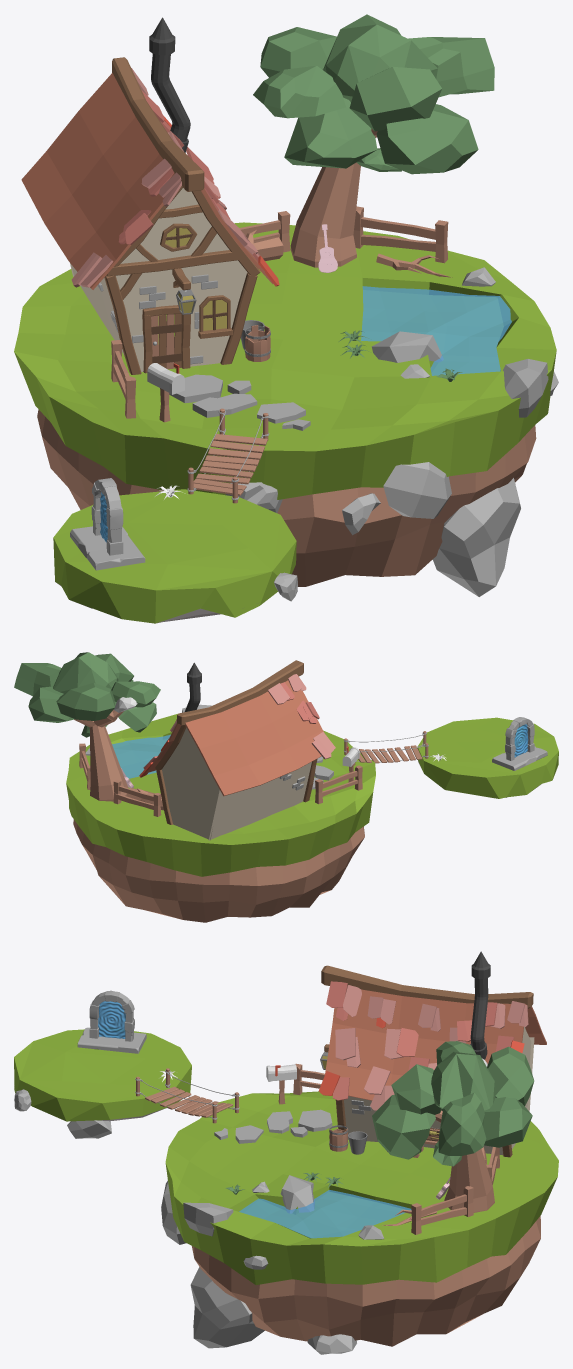
Rendered from worldIndex-S1yBjDze.glb.
The picture shows the model from 3 angles, top to bottom: view 1: azimuth 30°, elevation 25°; view 2: azimuth 150°, elevation 25°; view 3: azimuth 270°, elevation 25°; orthographic projection. The views are drawn at different scales.
Parts seen in each view (by area): view 1: Cylinder.004, Cylinder.005, Cylinder, Plane.005, Plane.001, Plane.002, rock.039, Plane, rock.025, rock.024, rock.022, rock.020 (+23 smaller); view 2: Cylinder.004, Cylinder, Plane.005, Cylinder.005, Plane.007, Plane.006, Plane, rock.023, rock.024, Cube.048, Plane.001, rock.019 (+10 smaller); view 3: Cylinder.004, Cylinder, Cylinder.005, Plane.003, Plane.001, rock.039, rock.024, rock.025, Cube.048, rock.019, Plane, rock.021 (+17 smaller).
Part boxes in pixels (box(x1,y1,x2,y2)): Cylinder.004: box(14, 222, 556, 499); Cylinder.005: box(53, 489, 296, 623); Cylinder: box(37, 409, 536, 586); Plane.005: box(21, 73, 174, 289); Plane.001: box(361, 286, 511, 375); Plane.002: box(116, 188, 247, 371); rock.039: box(432, 478, 520, 596); Plane: box(290, 128, 377, 267); rock.025: box(376, 104, 478, 174); rock.024: box(323, 14, 437, 101); rock.022: box(349, 67, 442, 131); rock.020: box(284, 97, 377, 168); Cylinder.004: box(66, 714, 375, 876); Cylinder: box(73, 819, 364, 922); Plane.005: box(185, 680, 323, 796); Cylinder.005: box(417, 717, 558, 798); Plane.007: box(162, 727, 219, 840); Plane.006: box(208, 762, 311, 840); Plane: box(74, 709, 128, 801); rock.023: box(56, 683, 114, 720); rock.024: box(53, 652, 118, 693); Cube.048: box(177, 660, 303, 725); Plane.001: box(112, 734, 170, 778); rock.019: box(14, 663, 61, 696); Cylinder.004: box(165, 1091, 558, 1284); Cylinder: box(192, 1216, 540, 1346); Cylinder.005: box(14, 1029, 191, 1121); Plane.003: box(324, 989, 526, 1100); Plane.001: box(239, 1190, 411, 1238); rock.039: box(190, 1267, 264, 1348); rock.024: box(431, 1051, 495, 1110); rock.025: box(372, 1094, 435, 1159); Cube.048: box(321, 965, 533, 1008); rock.019: box(438, 1092, 486, 1155); Plane: box(435, 1110, 494, 1212); rock.021: box(483, 1097, 532, 1147).
Bounding box in the file's own units: 10.8 × 7.38 × 10.4.
